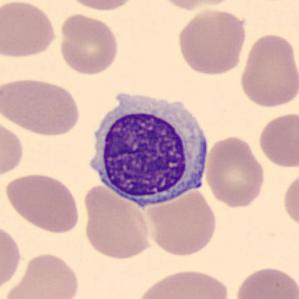Lymphocyte: (80, 86, 213, 212)
RBC: (80, 182, 154, 261), (144, 186, 219, 258), (174, 5, 248, 77), (2, 171, 82, 234), (1, 75, 82, 137), (202, 133, 268, 209), (237, 31, 298, 111), (57, 12, 120, 76), (1, 250, 82, 299), (0, 0, 59, 61), (131, 266, 233, 299), (256, 110, 298, 170), (232, 263, 298, 299), (0, 117, 26, 180), (0, 222, 23, 293), (281, 168, 299, 233), (154, 0, 239, 12), (62, 0, 140, 12)
